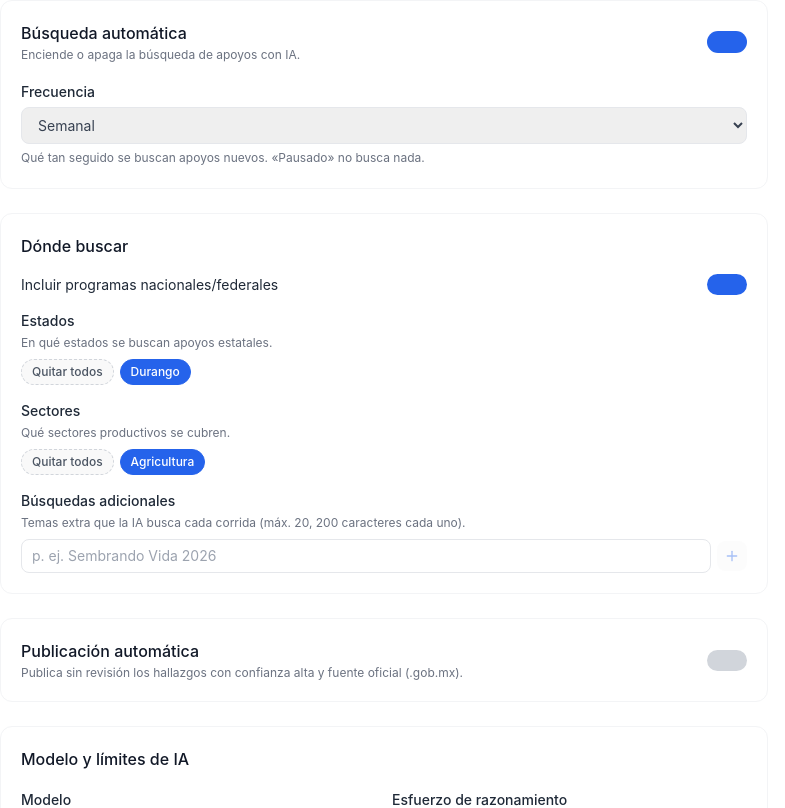
Test: toggling auto_publish on shows the warning banner
Click the switch named "Publicación automática" at (727, 660), box x1=707 y1=650 x2=747 y2=671
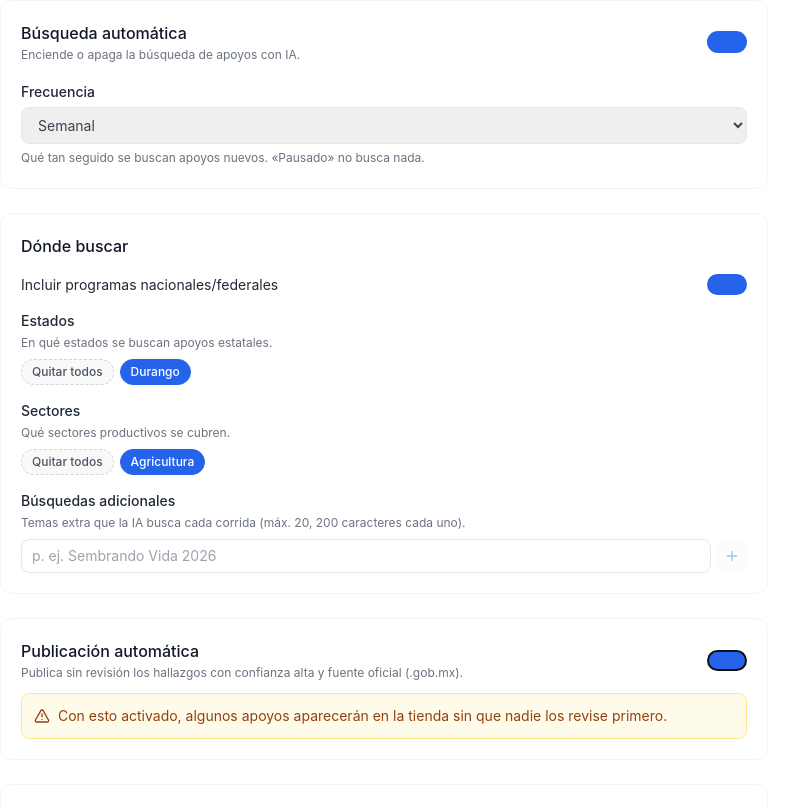
Now the text "sin que nadie los revise" is shown, box x1=58 y1=707 x2=667 y2=724
